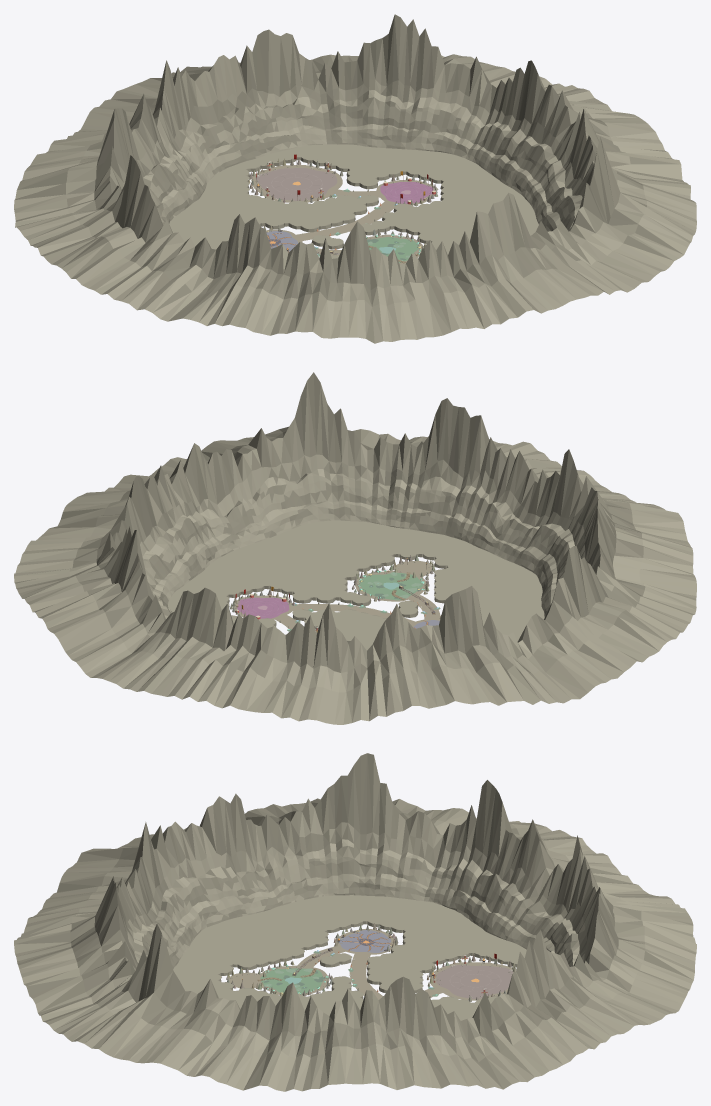
Rendered from map_dg_goblin.glb.
The picture shows the model from 3 angles, top to bottom: view 1: azimuth 30°, elevation 25°; view 2: azimuth 150°, elevation 25°; view 3: azimuth 270°, elevation 25°; orthographic projection.
Parts seen in each view (by area): view 1: Z_dg_goblin_penhascos, Z_dg_goblin_morro_parede_0_0, Z_dg_goblin_chao_selo, Z_dg_goblin_chao_tambores, Z_dg_goblin_estrada_corredor_2, Z_dg_goblin_praca_selo, Z_dg_goblin_chao_lamacal; view 2: Z_dg_goblin_penhascos, Z_dg_goblin_morro_parede_0_0, Z_dg_goblin_chao_lamacal, Z_dg_goblin_chao_tambores, Z_dg_goblin_estrada_corredor_2; view 3: Z_dg_goblin_penhascos, Z_dg_goblin_morro_parede_0_0, Z_dg_goblin_chao_selo, Z_dg_goblin_chao_lamacal, Z_dg_goblin_chao_forja, Z_dg_goblin_estrada_corredor_2, Z_dg_goblin_praca_selo.
Part boxes in pixels (left/top/right/bottom): Z_dg_goblin_penhascos: left=14, top=14, right=696, bottom=343; Z_dg_goblin_morro_parede_0_0: left=169, top=144, right=538, bottom=258; Z_dg_goblin_chao_selo: left=256, top=168, right=337, bottom=200; Z_dg_goblin_chao_tambores: left=380, top=182, right=433, bottom=203; Z_dg_goblin_estrada_corredor_2: left=296, top=201, right=394, bottom=240; Z_dg_goblin_praca_selo: left=251, top=165, right=342, bottom=202; Z_dg_goblin_chao_lamacal: left=367, top=237, right=419, bottom=262; Z_dg_goblin_penhascos: left=14, top=372, right=696, bottom=724; Z_dg_goblin_morro_parede_0_0: left=168, top=520, right=544, bottom=650; Z_dg_goblin_chao_lamacal: left=358, top=572, right=423, bottom=600; Z_dg_goblin_chao_tambores: left=237, top=597, right=289, bottom=618; Z_dg_goblin_estrada_corredor_2: left=293, top=604, right=414, bottom=623; Z_dg_goblin_penhascos: left=14, top=753, right=696, bottom=1091; Z_dg_goblin_morro_parede_0_0: left=173, top=895, right=526, bottom=1020; Z_dg_goblin_chao_selo: left=436, top=965, right=513, bottom=998; Z_dg_goblin_chao_lamacal: left=260, top=968, right=322, bottom=994; Z_dg_goblin_chao_forja: left=339, top=930, right=391, bottom=952; Z_dg_goblin_estrada_corredor_2: left=349, top=954, right=382, bottom=999; Z_dg_goblin_praca_selo: left=430, top=962, right=513, bottom=1000.
Bounding box in the file's own units: 281 × 58.53 × 281.
